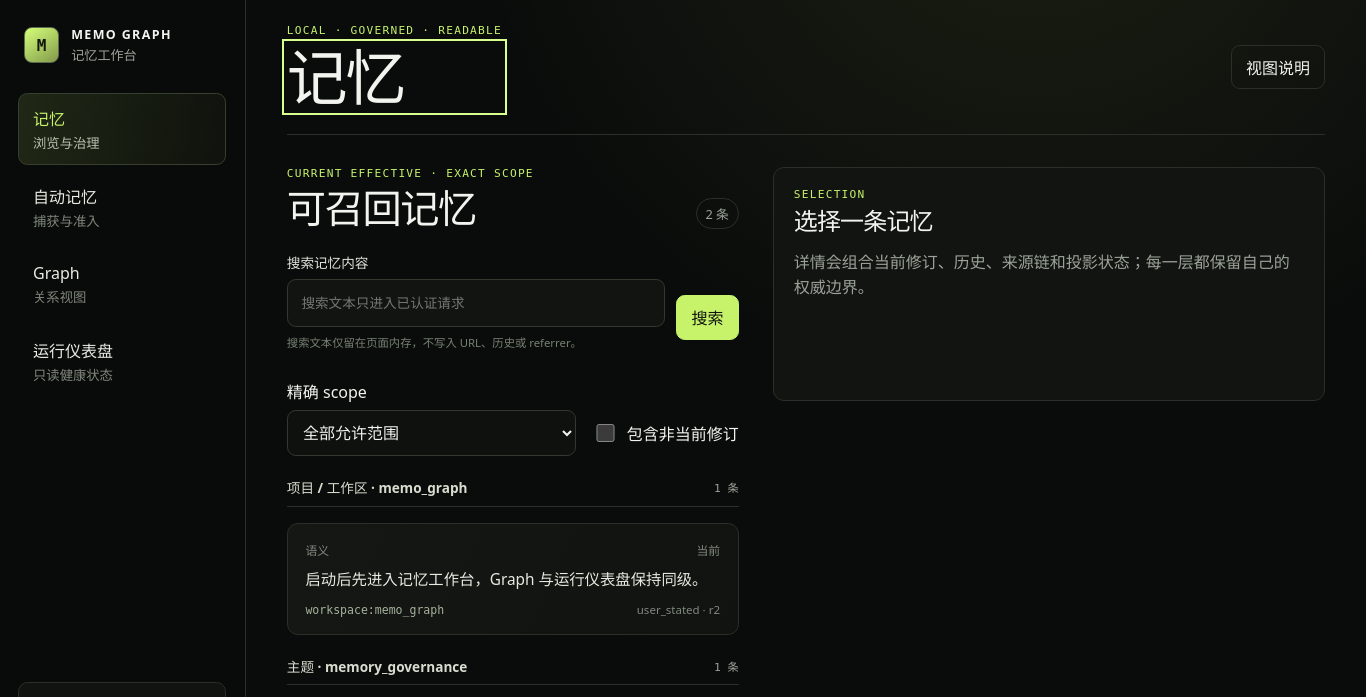
Test: authority-first Runtime dashboard › does not invent healthy cards when the first observation is unavailable
This screenshot has width=1366, height=697.
Click the link "运行仪表盘 只读健康状态".
click(73, 362)  # box [33,340,113,384]
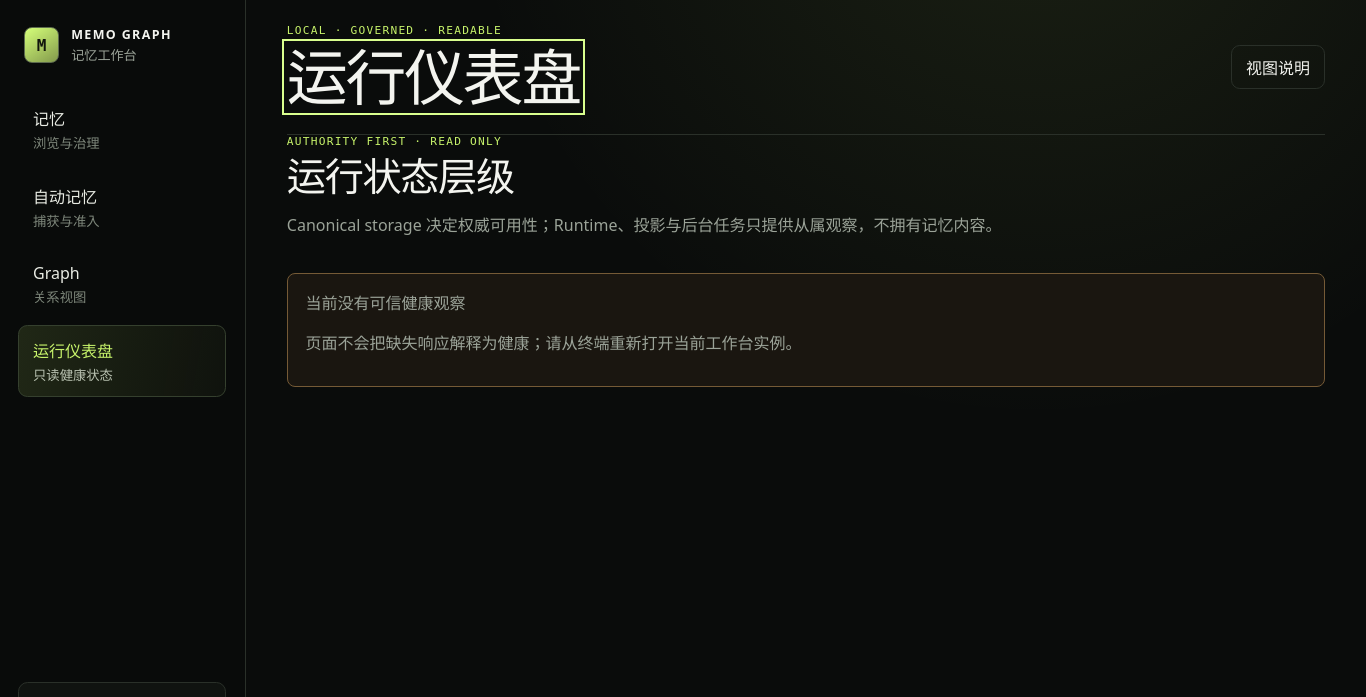
Result: the text "当前没有可信健康观察" is shown at [305,292,465,314]
